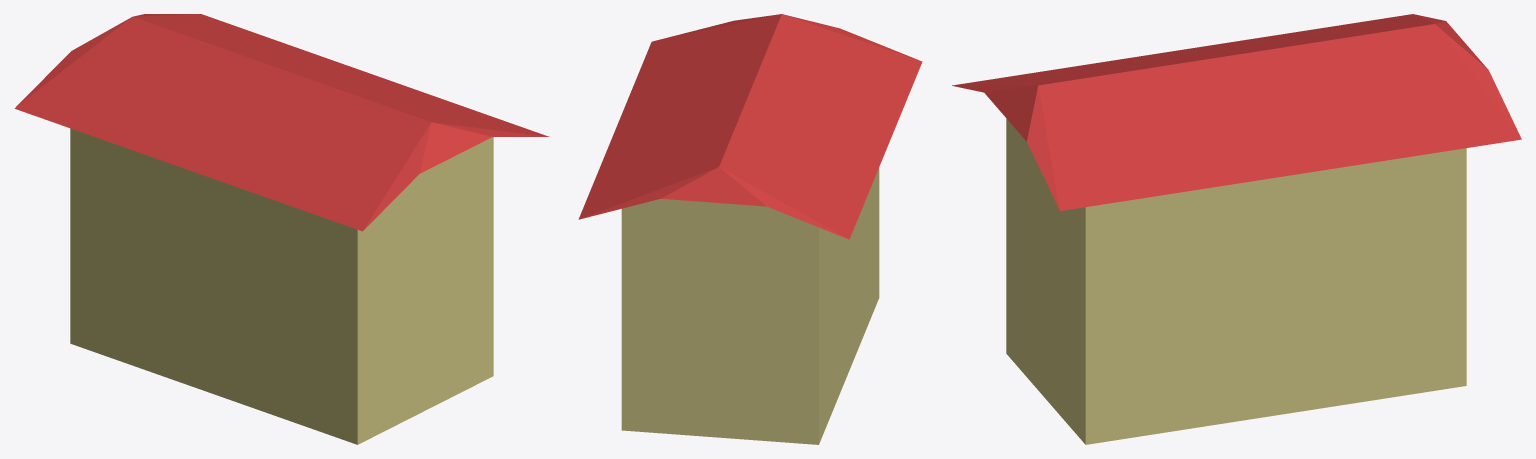
3 renders of one model, left to right at view 1: azimuth 30°, elevation 25°; view 2: azimuth 150°, elevation 25°; view 3: azimuth 270°, elevation 25°, orthographic. The views are drawn at different scales.
Size of the model in its own units: 8.11 by 9.93 by 6.04.
